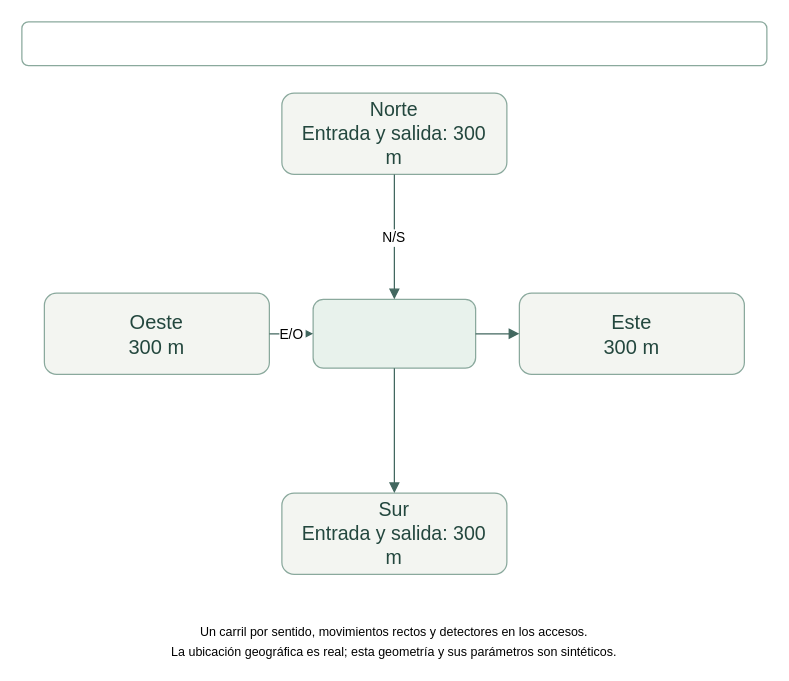
Some shapes in this 789 by 681 pixel diagram are drawn without their labels. The box of each missing label's shape, as (x1, y1, x2, y2) in pixels:
J1 Dos ejes: (312, 298, 476, 368)
Modelo de intersección usado en los experimentos: (21, 21, 767, 66)
